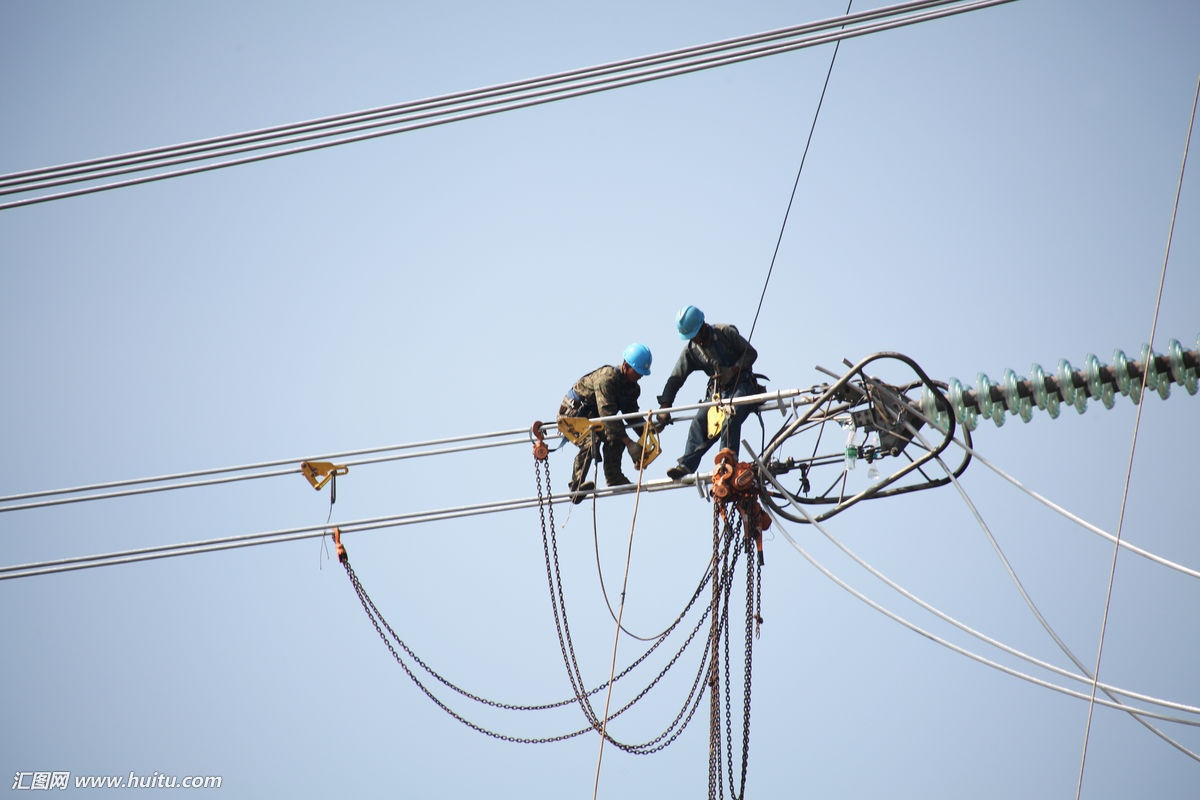blue: (619, 340, 653, 382), (675, 302, 708, 344)
